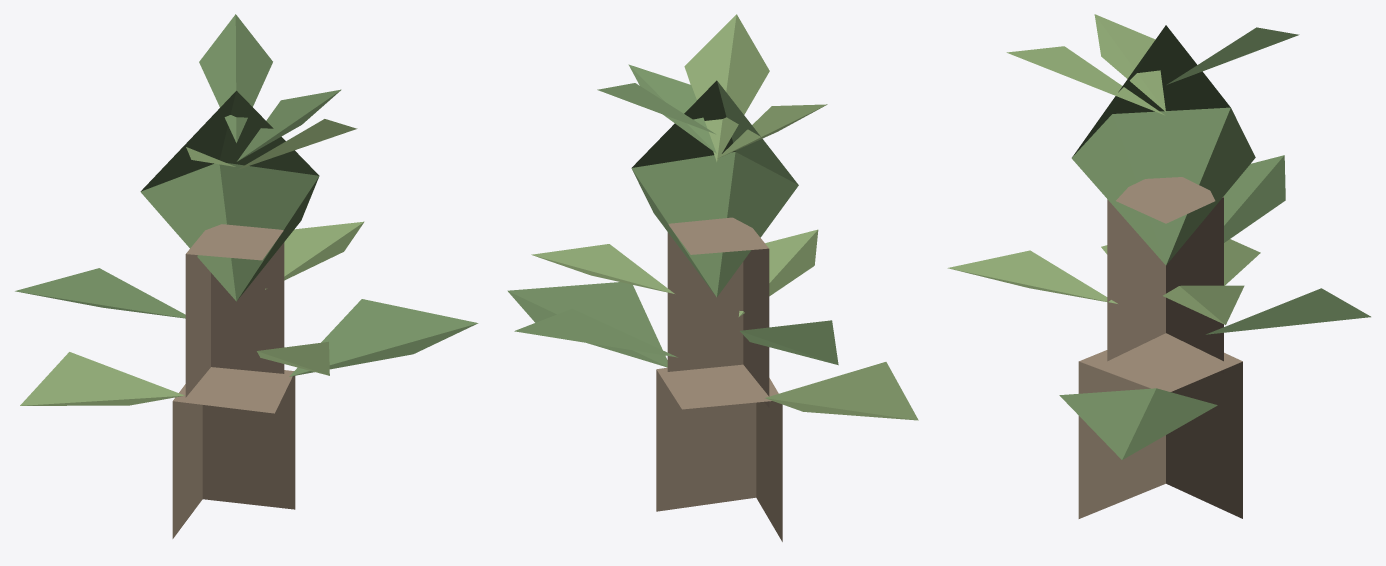
The model's file is shu.maozhu@seedling__summer.glb.
The picture shows the model from 3 angles, left to right: view 1: azimuth 30°, elevation 25°; view 2: azimuth 150°, elevation 25°; view 3: azimuth 270°, elevation 25°; orthographic projection. The views are drawn at different scales.
Parts seen in each view (by area): view 1: shu.maozhu@seedling__summer; view 2: shu.maozhu@seedling__summer; view 3: shu.maozhu@seedling__summer.
Part boxes in pixels (x1,y1,x2,y2): shu.maozhu@seedling__summer: (15,14,478,538); shu.maozhu@seedling__summer: (507,14,918,541); shu.maozhu@seedling__summer: (947,14,1370,518).
Bounding box in the file's own units: 0.4222 × 0.4255 × 0.3171.
